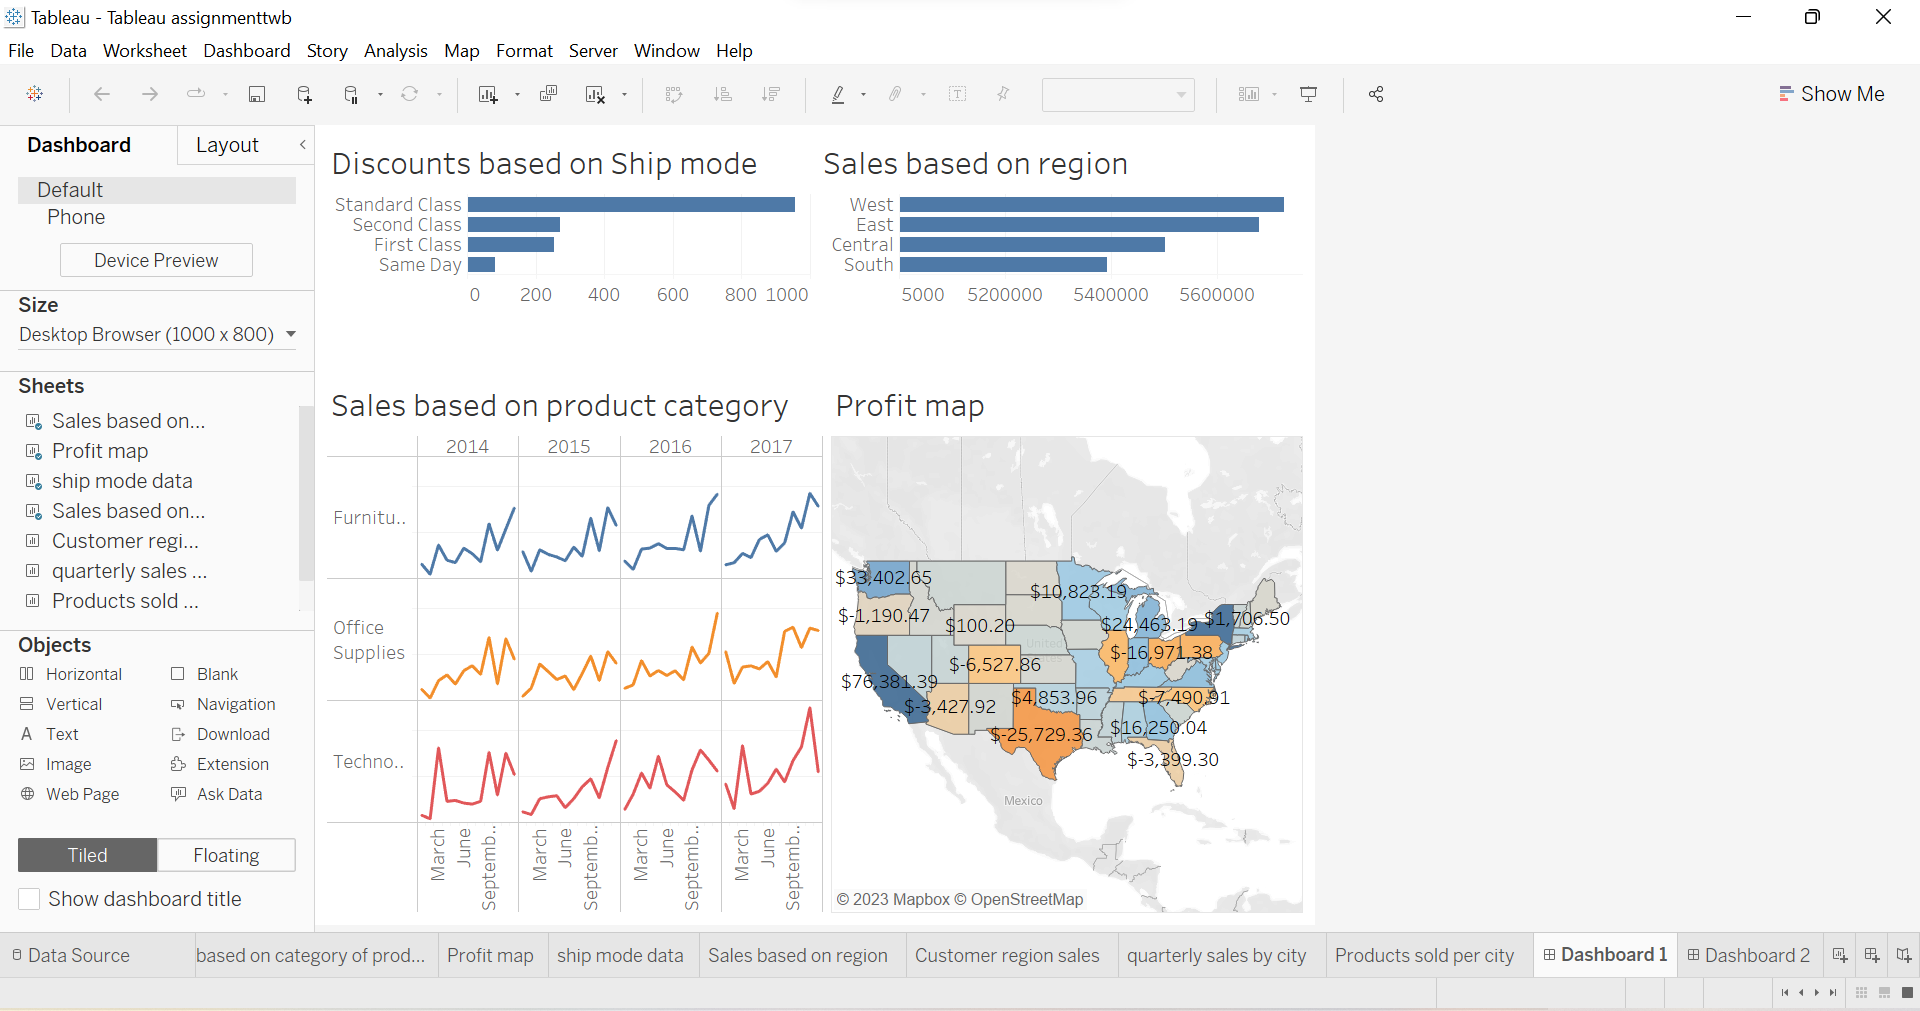

What the dashboard file says about the page in this screenshot:
{"tool":"tableau","page":{"name":"Dashboard 1","canvas":[1000,800],"ordinal":0},"visuals":[{"type":"worksheet","title":"ship mode data","mark":"Automatic","rows":["Ship Mode"],"cols":["Discount"],"box":[8,8,492,242]},{"type":"worksheet","title":"Sales based on region","mark":"Bar","rows":["Region"],"cols":["Sales"],"box":[500,8,492,242]},{"type":"worksheet","title":"Sales based on category of products","mark":"Automatic","rows":["Category","Sales"],"cols":["Order Date","Order Date"],"box":[8,250,504,542]},{"type":"worksheet","title":"Profit map","mark":"Automatic","box":[512,250,480,542]}]}

Visuals, with their boxes on the page's 1000x800 design canvas (x1, y1, x2, y2). These are canvas units, not pixel positions in the 1920x1011 screenshot, which may show the page scaled, cropped or inside an application window:
"ship mode data" worksheet: (8, 8, 500, 250)
"Sales based on region" worksheet (Bar marks): (500, 8, 992, 250)
"Sales based on category of products" worksheet: (8, 250, 512, 792)
"Profit map" worksheet: (512, 250, 992, 792)
